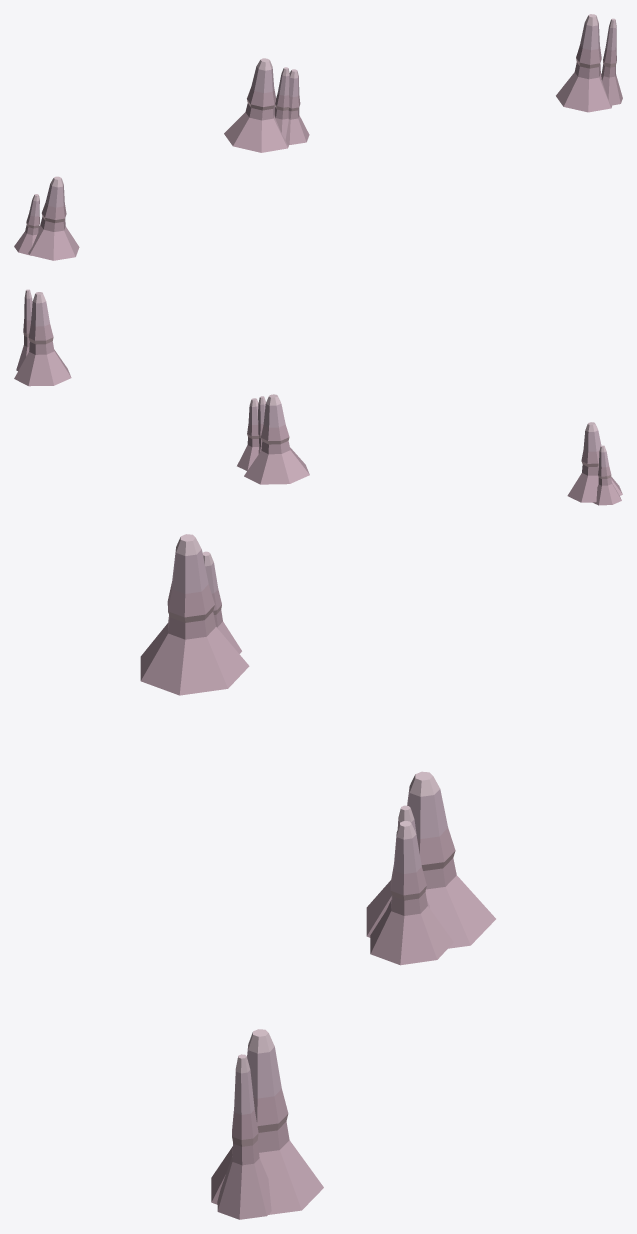
File: SaltChimneys.gltf
3 renders of one model, top to bottom at view 1: azimuth 30°, elevation 25°; view 2: azimuth 150°, elevation 25°; view 3: azimuth 270°, elevation 25°, orthographic. The views are drawn at different scales.
Parts seen in each view (by area): view 1: SaltChimneys; view 2: SaltChimneys; view 3: SaltChimneys.
Part boxes in pixels (<box>): SaltChimneys: <box>14,14,622,260</box>; SaltChimneys: <box>14,289,622,505</box>; SaltChimneys: <box>140,534,495,1219</box>.
Bounding box in the file's own units: 75.44 × 10.12 × 19.62.
